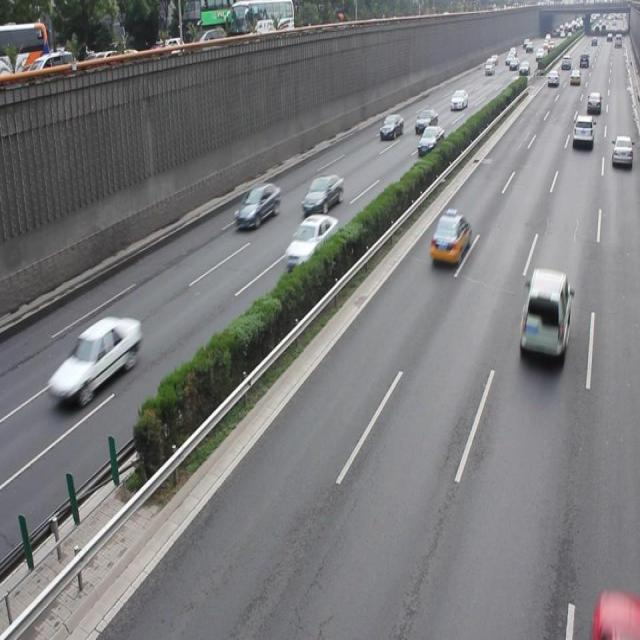car: (45, 314, 141, 405), (516, 268, 570, 364), (284, 212, 338, 270), (429, 212, 470, 267), (233, 182, 280, 228), (301, 174, 342, 214)
